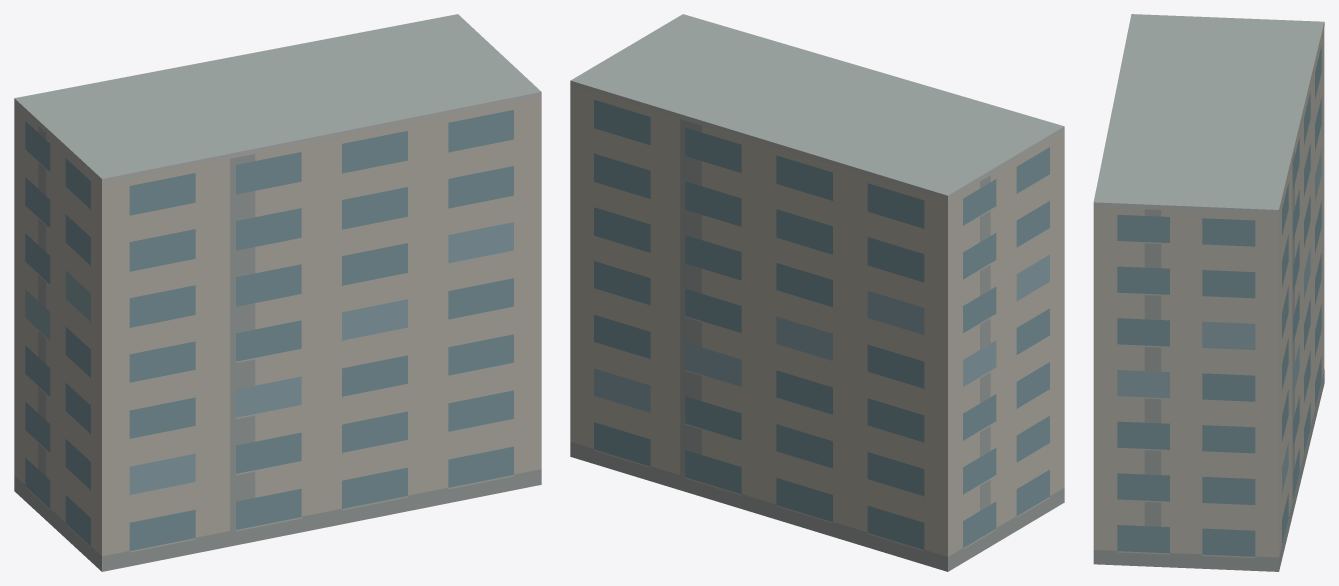
File: survey-upis-32764707.glb
3 views of the same model, side by side, from view 1: azimuth 30°, elevation 25°; view 2: azimuth 150°, elevation 25°; view 3: azimuth 270°, elevation 25° (orthographic). The views are drawn at different scales.
Parts seen in each view (by area): view 1: survey-upis-32764707.tmp; view 2: survey-upis-32764707.tmp; view 3: survey-upis-32764707.tmp.
Boxes of the visible parts, box(x1,y1,x2,y2) form: survey-upis-32764707.tmp: box(14, 14, 541, 571); survey-upis-32764707.tmp: box(570, 14, 1064, 571); survey-upis-32764707.tmp: box(1093, 14, 1324, 571).
Bounding box in the file's own units: 21.61 × 18.6 × 10.76.
